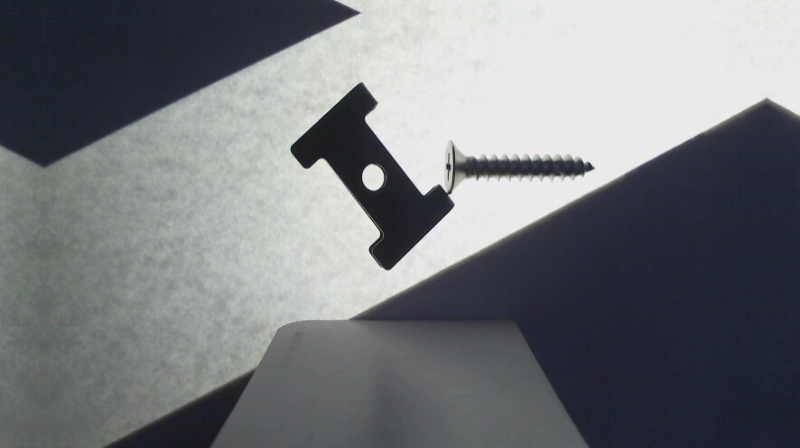O002: (288, 82, 453, 271)
S001: (447, 138, 596, 194)
